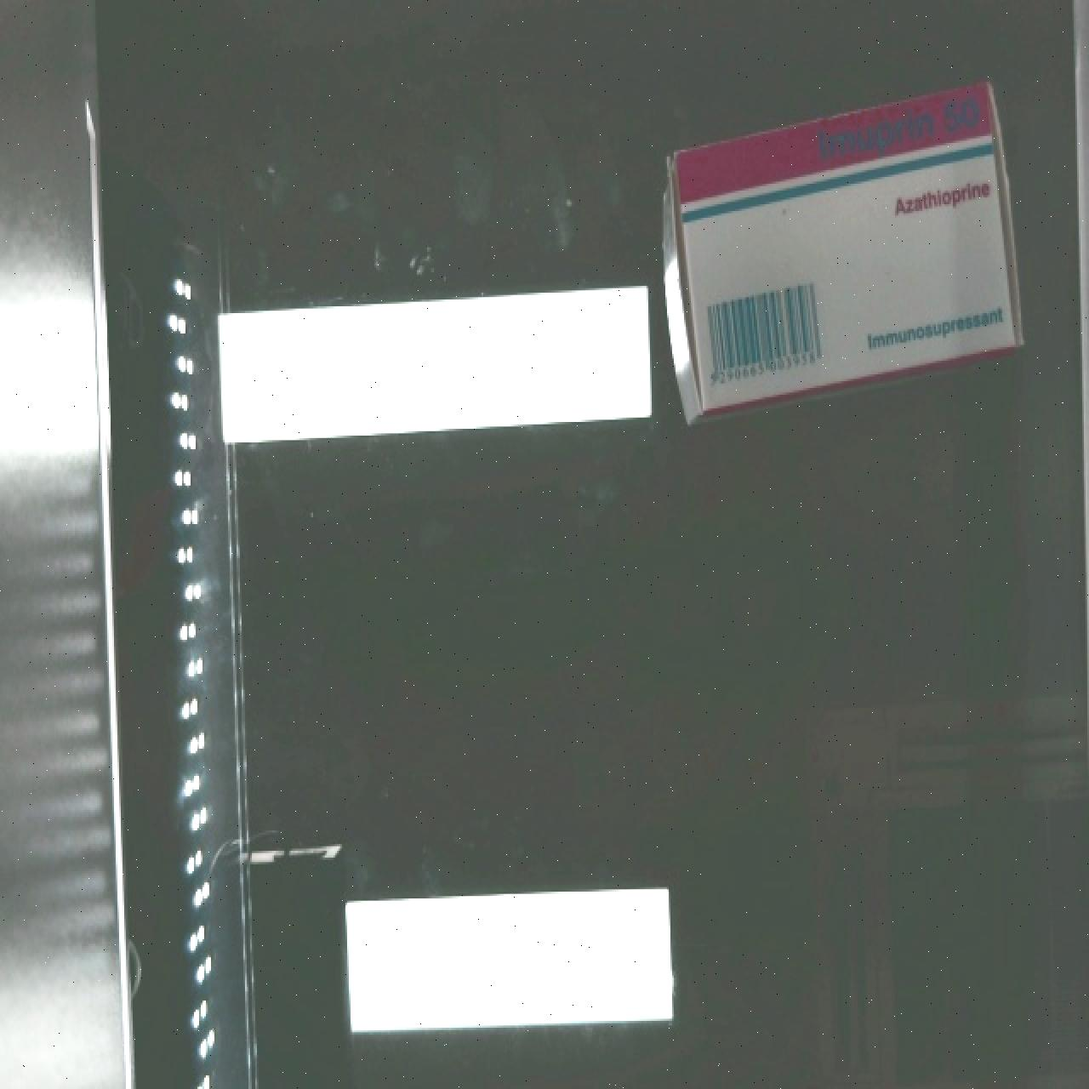medicine_label_obb: (796, 75, 1009, 188)
